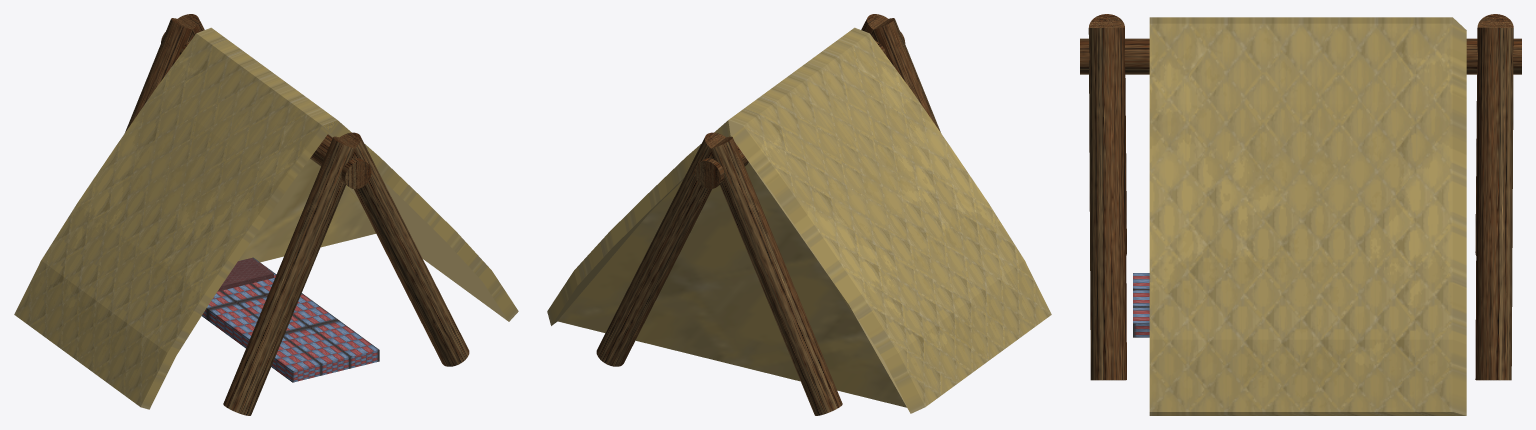
The model's file is CampingTent.fbx.
3 renders of one model, left to right at view 1: azimuth 30°, elevation 25°; view 2: azimuth 150°, elevation 25°; view 3: azimuth 270°, elevation 25°, orthographic. The views are drawn at different scales.
Visible parts, largest first — view 1: Plane, Cylinder.001, Cube, Cylinder, Cube.001; view 2: Plane, Cylinder.001, Cylinder; view 3: Plane, Cylinder.001, Cylinder, Cube.
Boxes of the visible parts, box(x1,y1,x2,y2) form: Plane: box(14, 27, 518, 409); Cylinder.001: box(125, 14, 469, 415); Cube: box(202, 257, 379, 382); Cylinder: box(161, 32, 371, 189); Cube.001: box(217, 258, 273, 291); Plane: box(547, 27, 1051, 413); Cylinder.001: box(596, 14, 940, 415); Cylinder: box(694, 31, 905, 188); Plane: box(1149, 17, 1466, 415); Cylinder.001: box(1088, 14, 1513, 380); Cylinder: box(1080, 38, 1521, 74); Cube: box(1133, 273, 1149, 337).
Bounding box in the file's own units: 346 × 222 × 292.
Materials: 4 (4 with a texture image).
